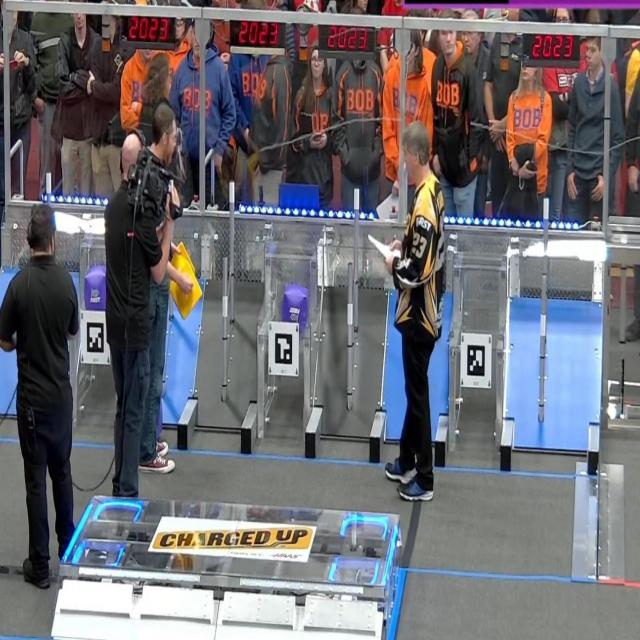frc_cone: (169, 262, 202, 320), (169, 242, 194, 278)
frc_cube: (84, 266, 108, 309), (283, 284, 307, 325)
